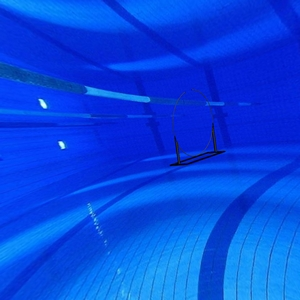circle: (169, 87, 227, 168)
